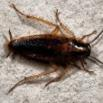cockroach: (7, 30, 92, 70)
